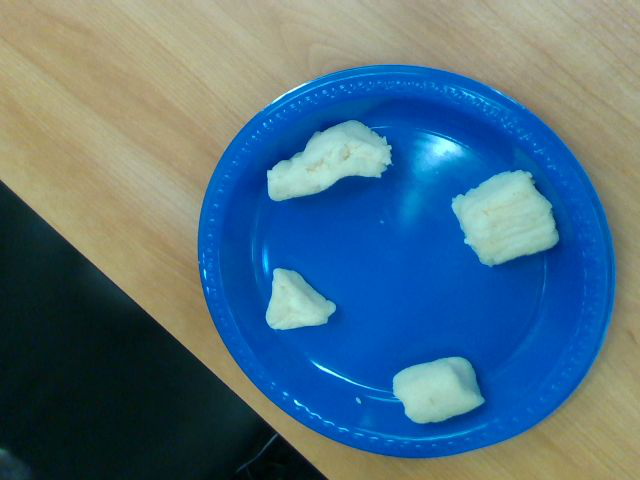mashed_potato: (453, 170, 559, 266), (268, 121, 391, 200), (393, 356, 484, 423), (265, 269, 335, 330)
